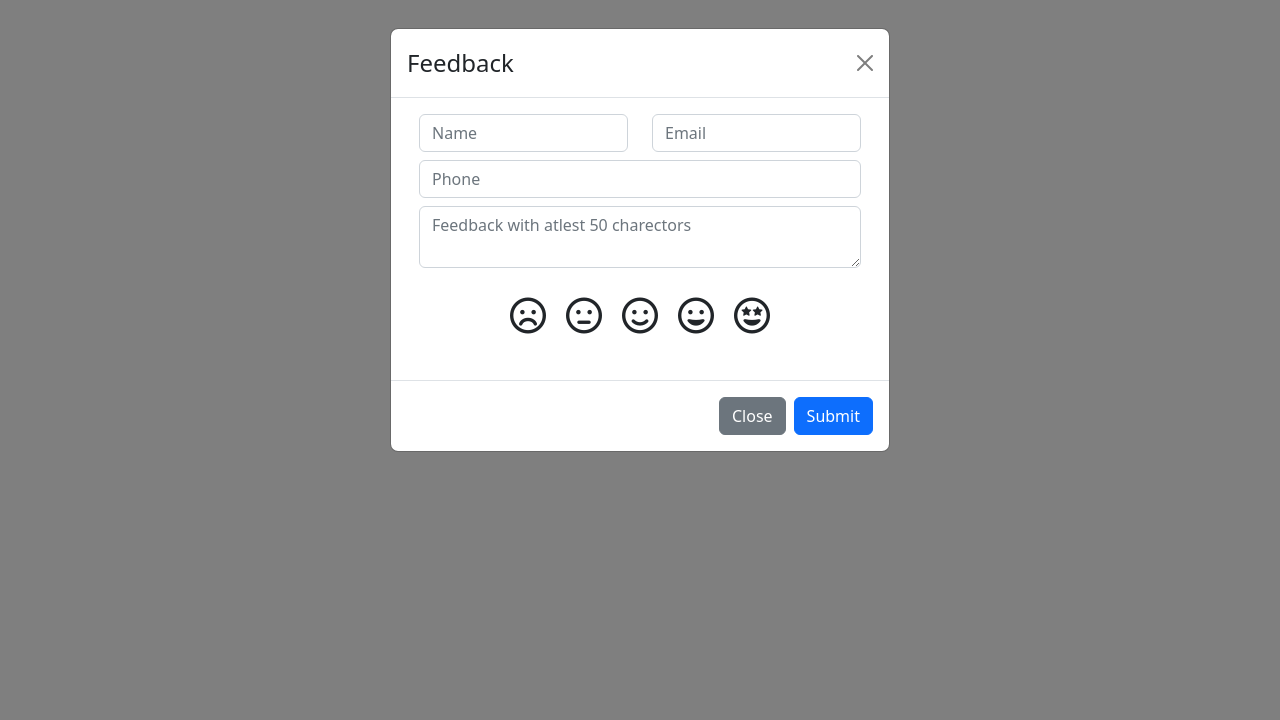
Test: <FeedbackModal /> › check submit button click
Click the button "Submit".
click(833, 416)  # box [794,397,873,435]
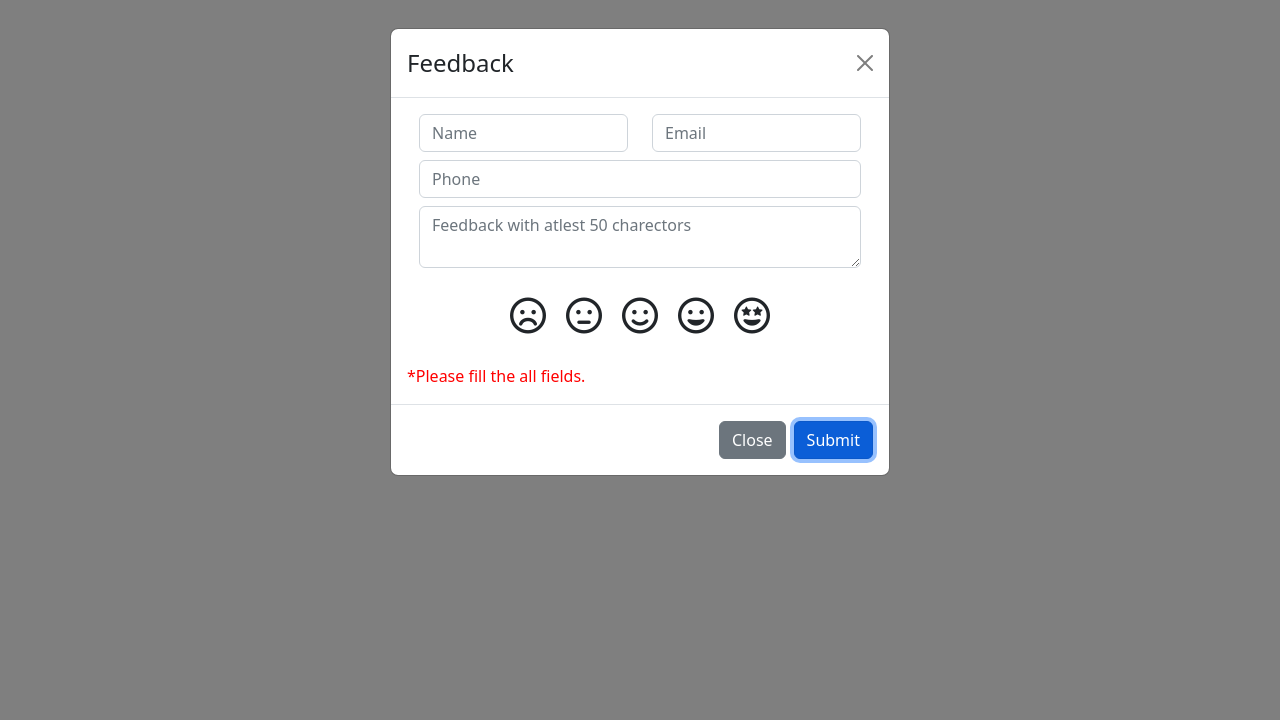
Expected: the text "*Please fill the all fields." is shown, [407,365,585,387]
